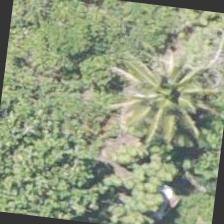Kelapa_Sawit: (114, 45, 214, 145)
